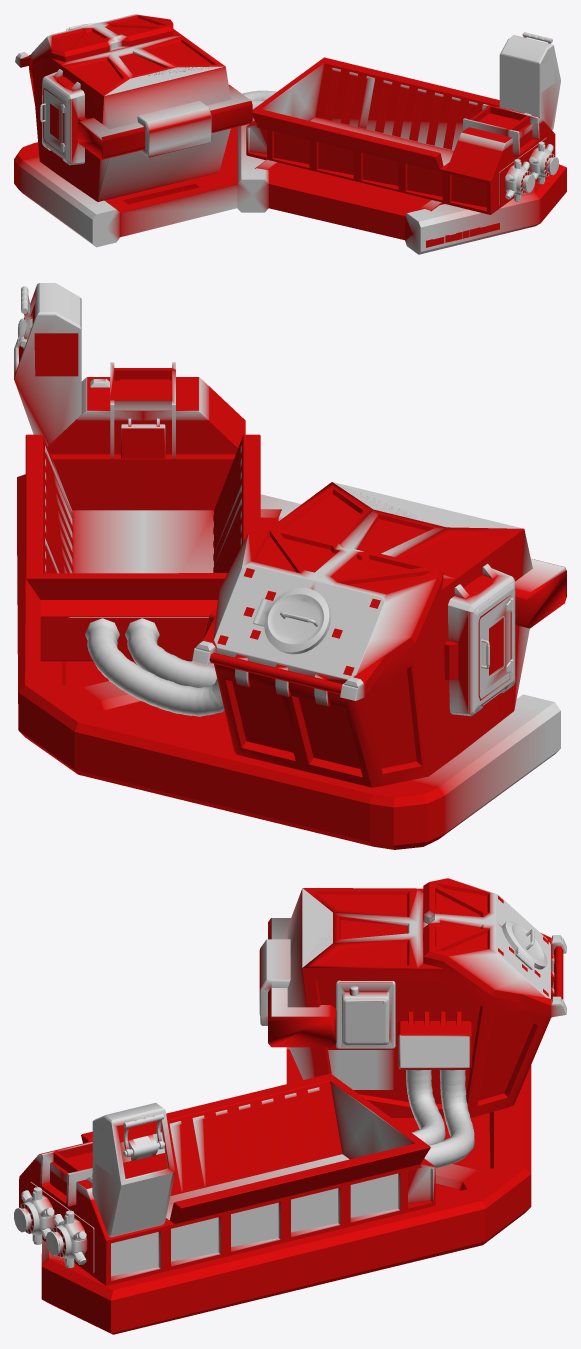
File: ControlPanelandHopper.fbx
3 renders of one model, top to bottom at view 1: azimuth 30°, elevation 25°; view 2: azimuth 150°, elevation 25°; view 3: azimuth 270°, elevation 25°, orthographic. The views are drawn at different scales.
Visible parts, largest first — view 1: GeneratorBiomass_static; view 2: GeneratorBiomass_static; view 3: GeneratorBiomass_static.
Boxes of the visible parts, x1,y1,x2,y2 form: GeneratorBiomass_static: [14, 14, 566, 254]; GeneratorBiomass_static: [14, 283, 566, 849]; GeneratorBiomass_static: [14, 878, 566, 1334].
Bounding box in the file's own units: 471 × 170 × 405.
